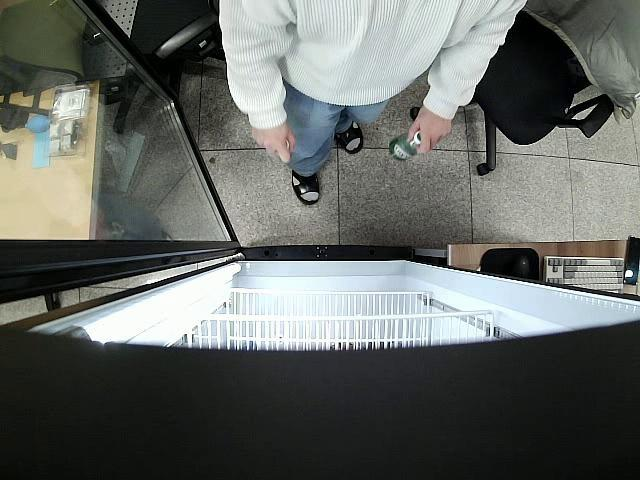18_trevi: (387, 127, 422, 166)
